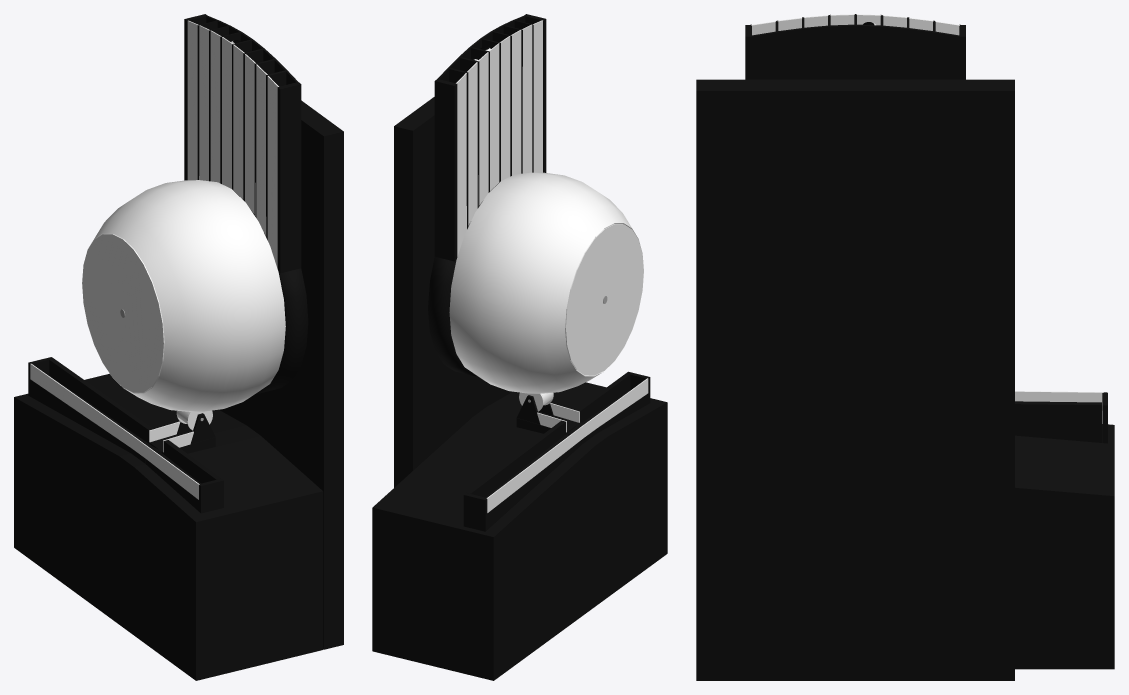
File: loteria.glb
The picture shows the model from 3 angles, left to right: view 1: azimuth 30°, elevation 25°; view 2: azimuth 150°, elevation 25°; view 3: azimuth 270°, elevation 25°; orthographic projection. The views are drawn at different scales.
Visible parts, largest first — view 1: Base, Chamber Glass Body, Back Wall, Ball Holder Glass, Chamber Glass Front, Ball Holder, Container_2, Chamber Body, Container_1, Collector Support; view 2: Base, Chamber Glass Body, Back Wall, Ball Holder Glass, Ball Holder, Chamber Glass Front, Container_2, Chamber Body, Container_1, Collector Support; view 3: Back Wall, Base, Ball Holder, Container_2, Ball Holder Glass.
Boxes of the visible parts, left/top/right/bottom form: Base: left=14, top=373, right=323, bottom=680; Chamber Glass Body: left=82, top=180, right=285, bottom=411; Back Wall: left=219, top=100, right=343, bottom=649; Ball Holder Glass: left=187, top=20, right=278, bottom=268; Chamber Glass Front: left=82, top=234, right=164, bottom=392; Ball Holder: left=184, top=14, right=301, bottom=273; Container_2: left=28, top=357, right=223, bottom=513; Chamber Body: left=257, top=268, right=308, bottom=393; Container_1: left=149, top=421, right=215, bottom=453; Collector Support: left=177, top=413, right=215, bottom=444; Base: left=372, top=382, right=667, bottom=680; Chamber Glass Body: left=449, top=172, right=643, bottom=393; Back Wall: left=394, top=97, right=512, bottom=487; Ball Holder Glass: left=456, top=20, right=542, bottom=256; Ball Holder: left=434, top=14, right=546, bottom=261; Chamber Glass Front: left=565, top=224, right=643, bottom=375; Container_2: left=463, top=371, right=650, bottom=531; Chamber Body: left=428, top=257, right=477, bottom=376; Container_1: left=516, top=403, right=579, bottom=434; Collector Support: left=516, top=395, right=553, bottom=424; Back Wall: left=696, top=79, right=1014, bottom=680; Base: left=1015, top=424, right=1114, bottom=669; Ball Holder: left=745, top=14, right=965, bottom=79; Container_2: left=1015, top=391, right=1107, bottom=443; Ball Holder Glass: left=751, top=14, right=959, bottom=35.
Size of the model in its own units: 1.52 by 5.34 by 3.15.
56 materials, 50 textured.
